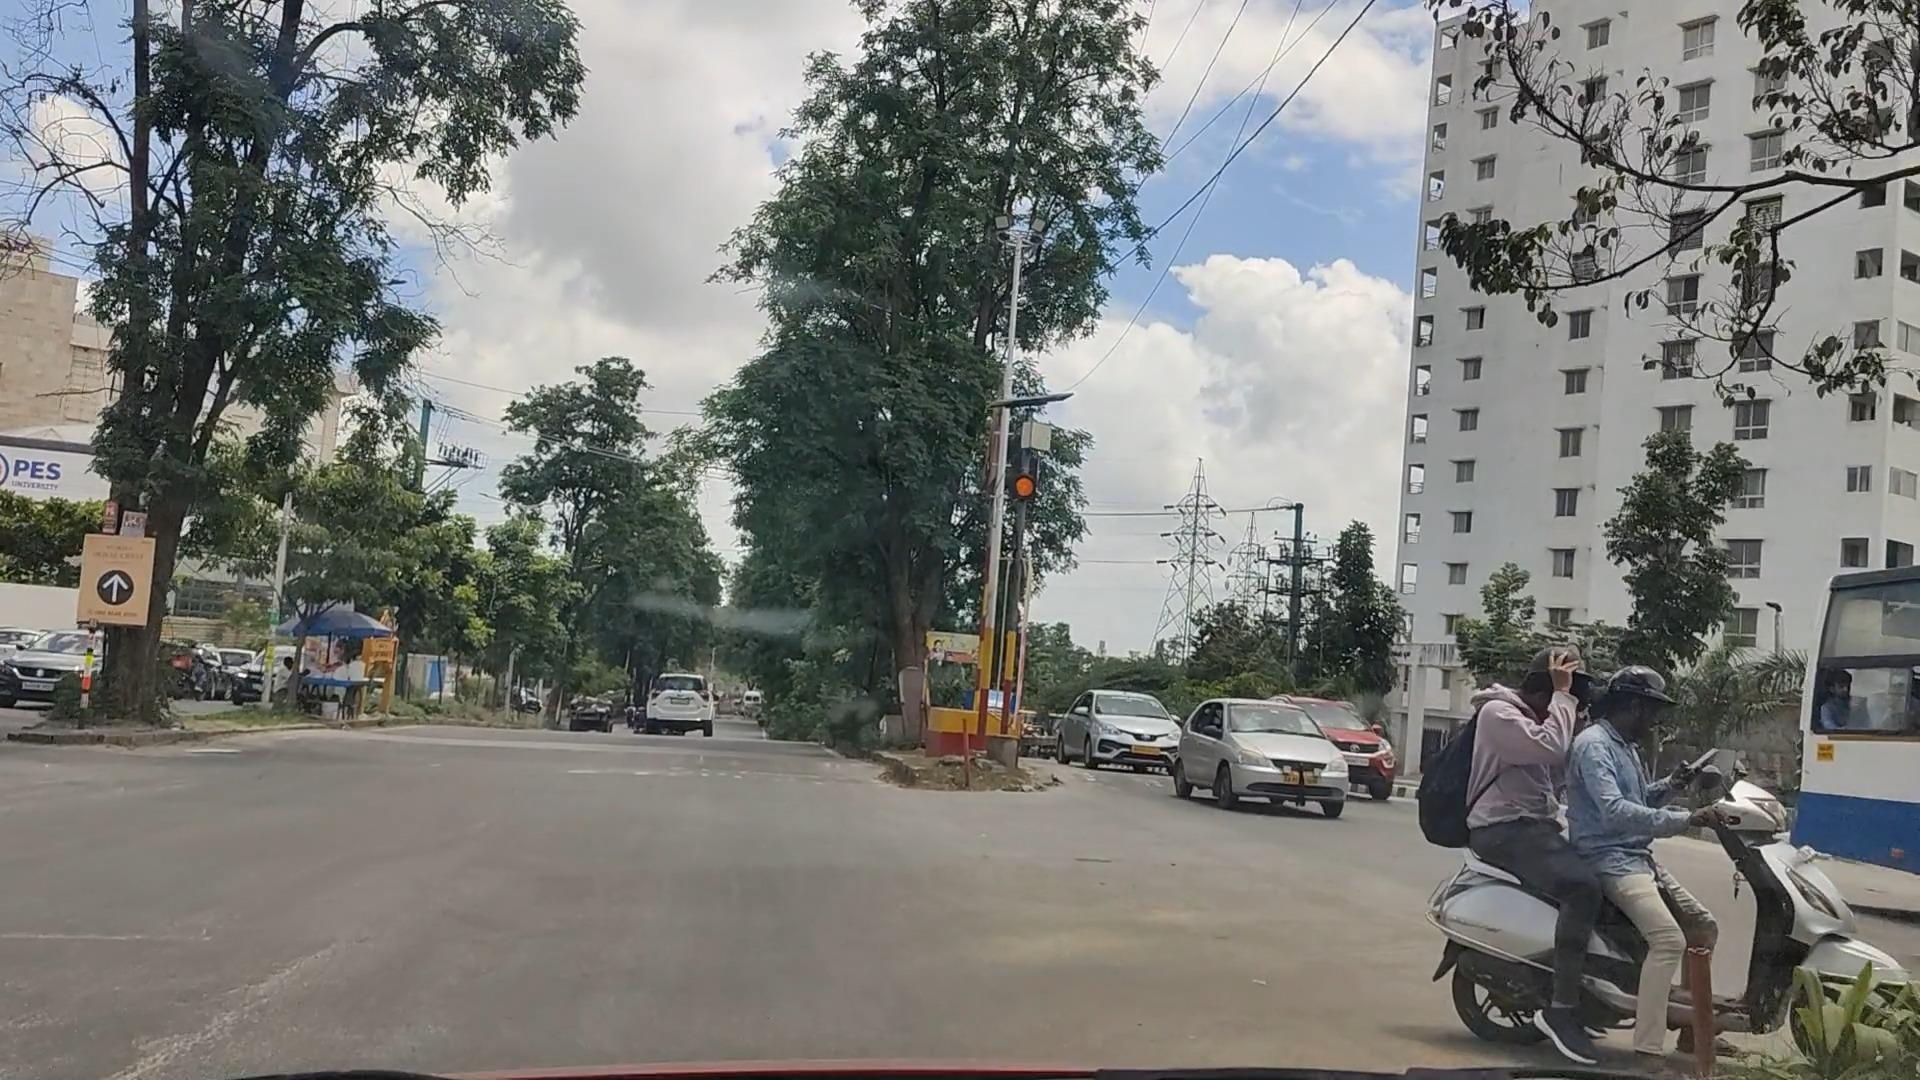RoadDamages: (128, 932, 371, 1080)
